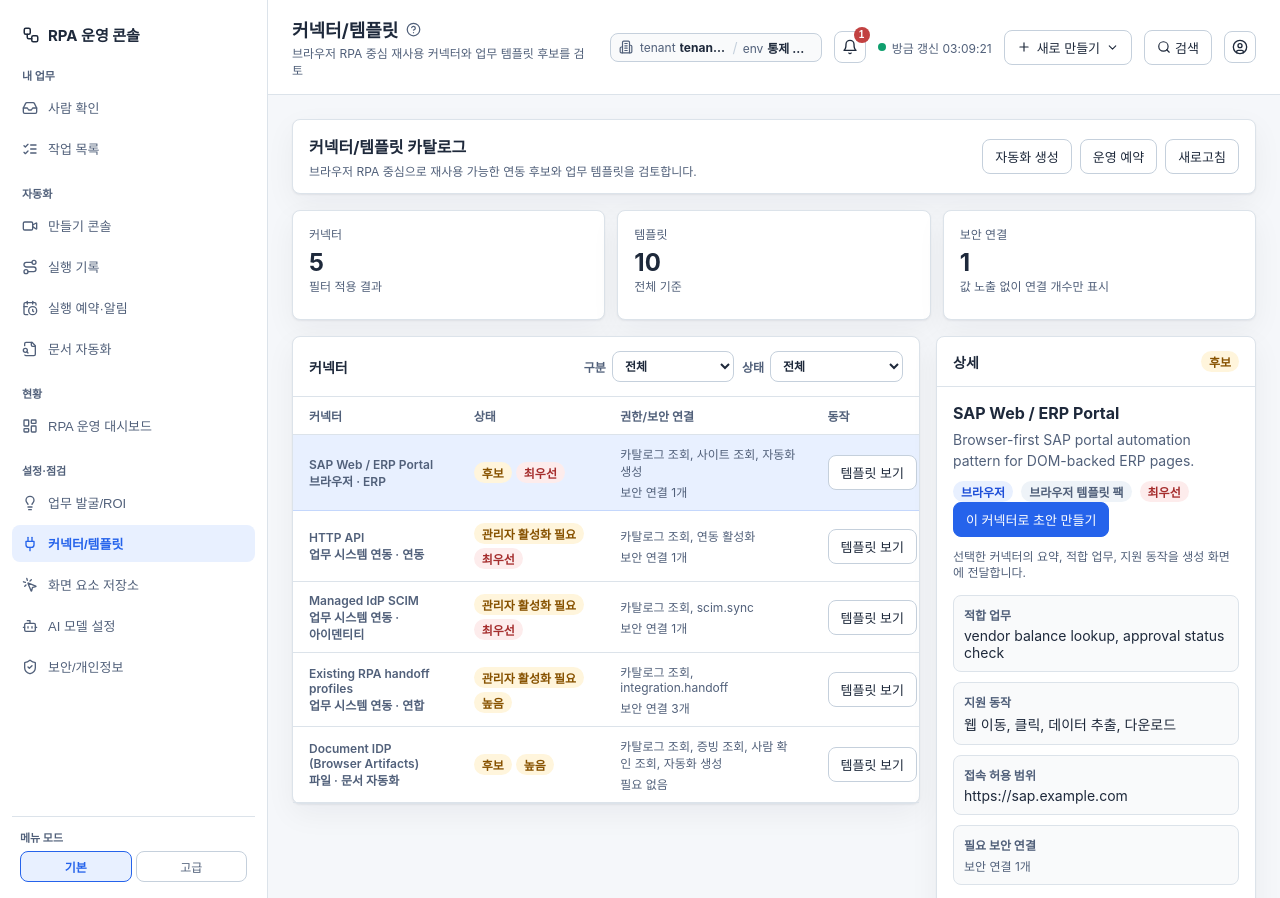
Test case: connector catalog view › lists connector and template metadata without secret values
Expected: the text "SAP Web / ERP Portal" is shown, [309,456,442,472]
Expected: the text "브라우저 템플릿 팩" is shown, [1021,481,1132,502]
Click the button "템플릿 보기" in the row of "아이덴티티". click: {"x": 872, "y": 617}
box: [828,600,917,634]
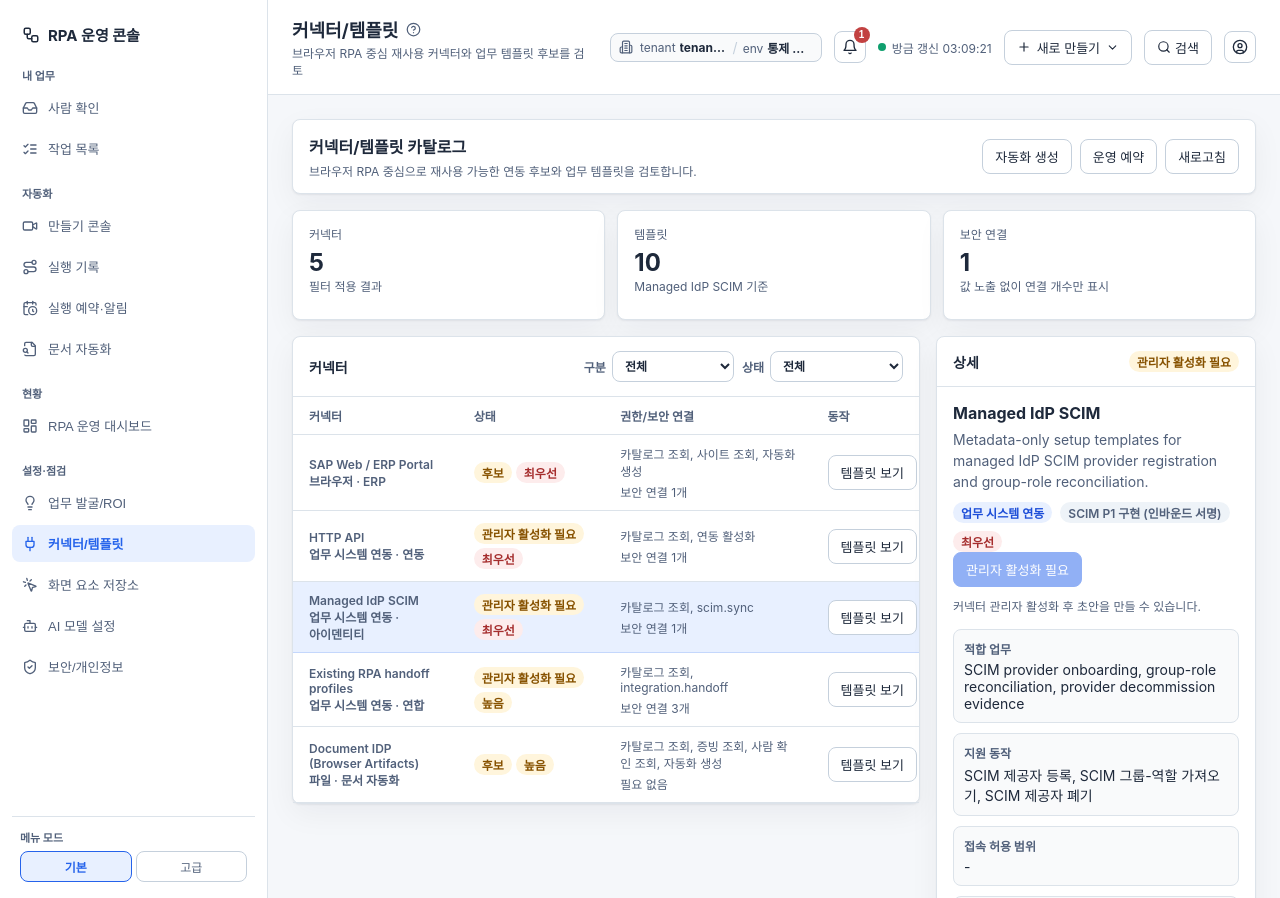
Click the button "템플릿 보기" in the row of "Document IDP (Browser Artifacts)". click: {"x": 872, "y": 764}
box: [828,747,917,782]
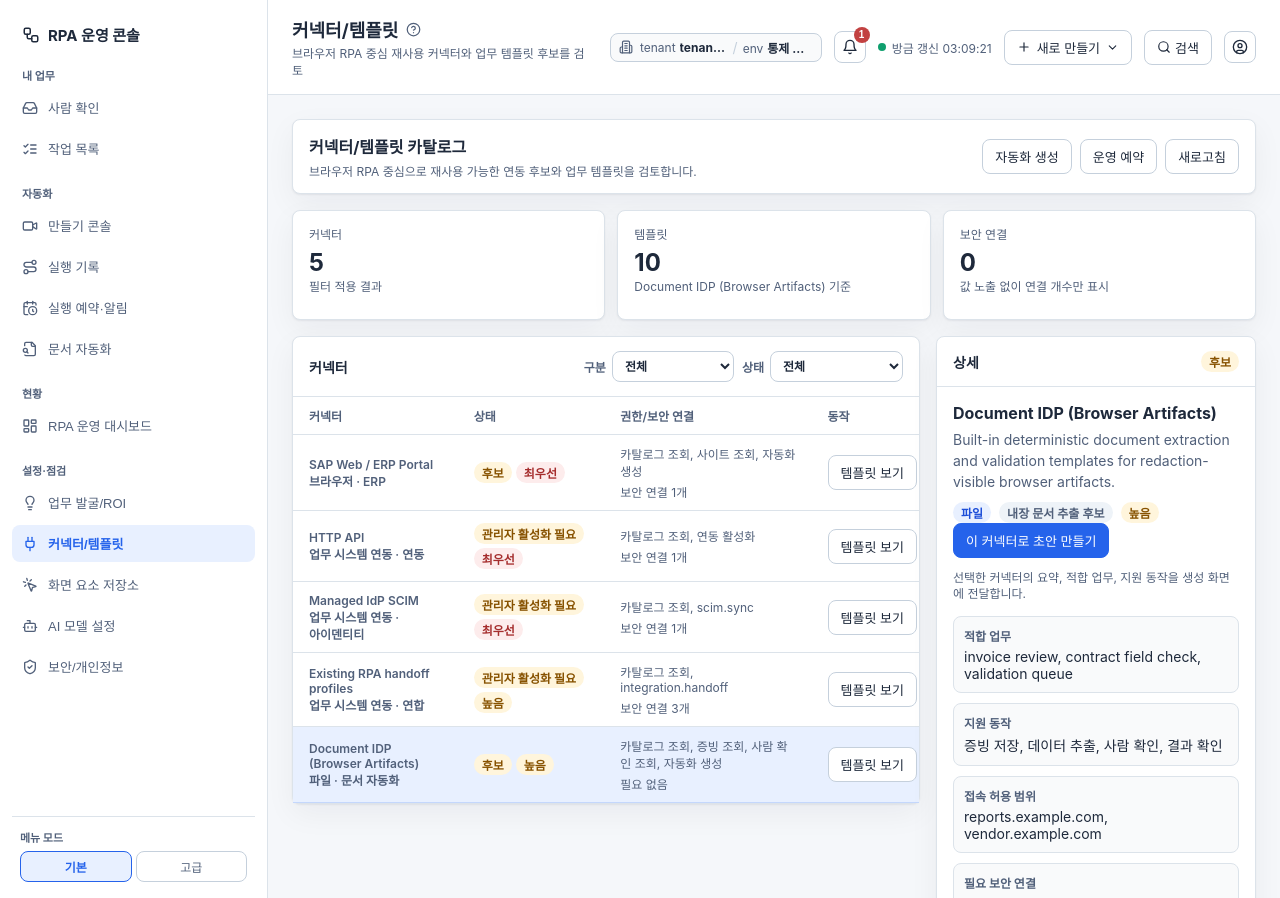
Expected: the 1st text "보안 연결 1개" is shown, [620,485,687,500]
Expected: the text "내장 문서 추출 후보" is shown, [999,502,1112,523]
